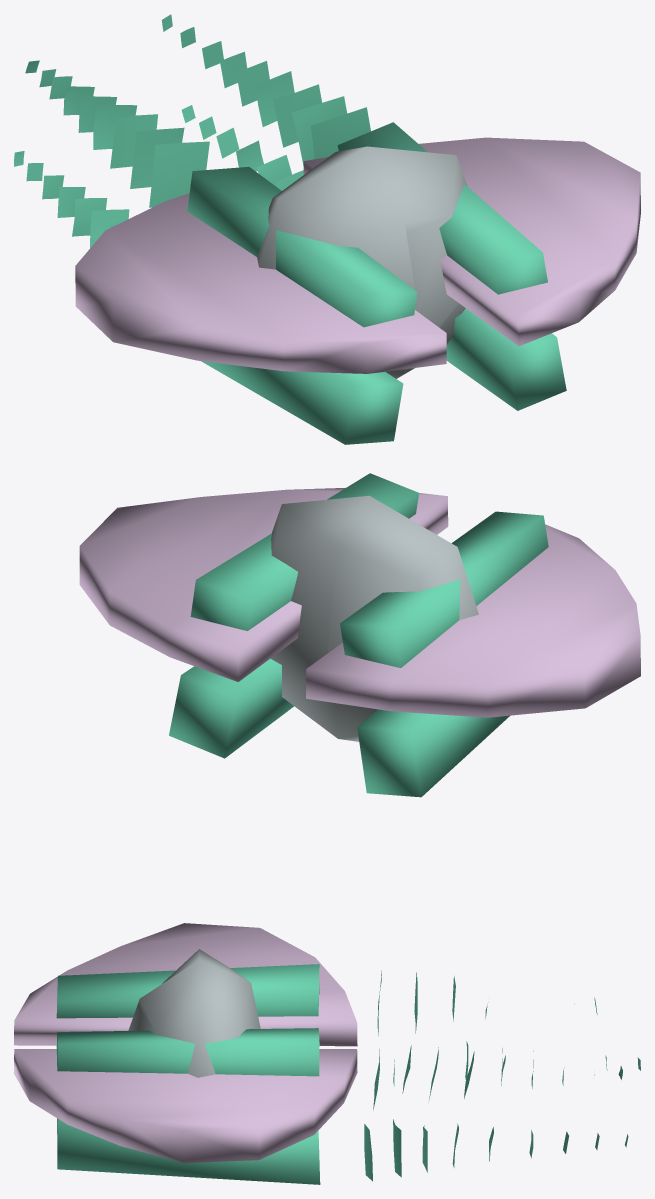
Rendered from ship_31.gltf.
The picture shows the model from 3 angles, top to bottom: view 1: azimuth 30°, elevation 25°; view 2: azimuth 150°, elevation 25°; view 3: azimuth 270°, elevation 25°; orthographic projection. The views are drawn at different scales.
Visible parts, largest first — view 1: gtlf; view 2: gtlf; view 3: gtlf.
Boxes of the visible parts, x1,y1,x2,y2 form: gtlf: [14, 14, 640, 444]; gtlf: [79, 473, 640, 797]; gtlf: [14, 923, 640, 1184].
Bounding box in the file's own units: 1.76 × 0.7973 × 2.25.
